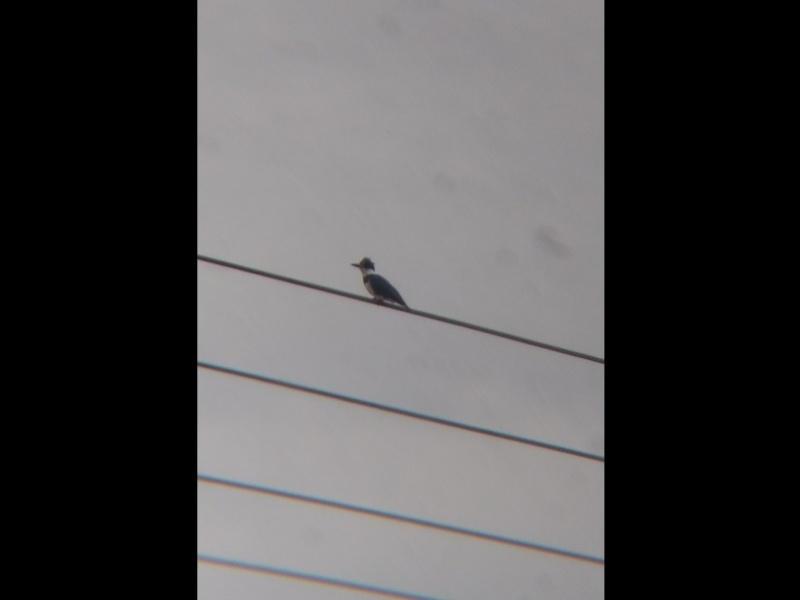kingfisher: (350, 258, 410, 309)
